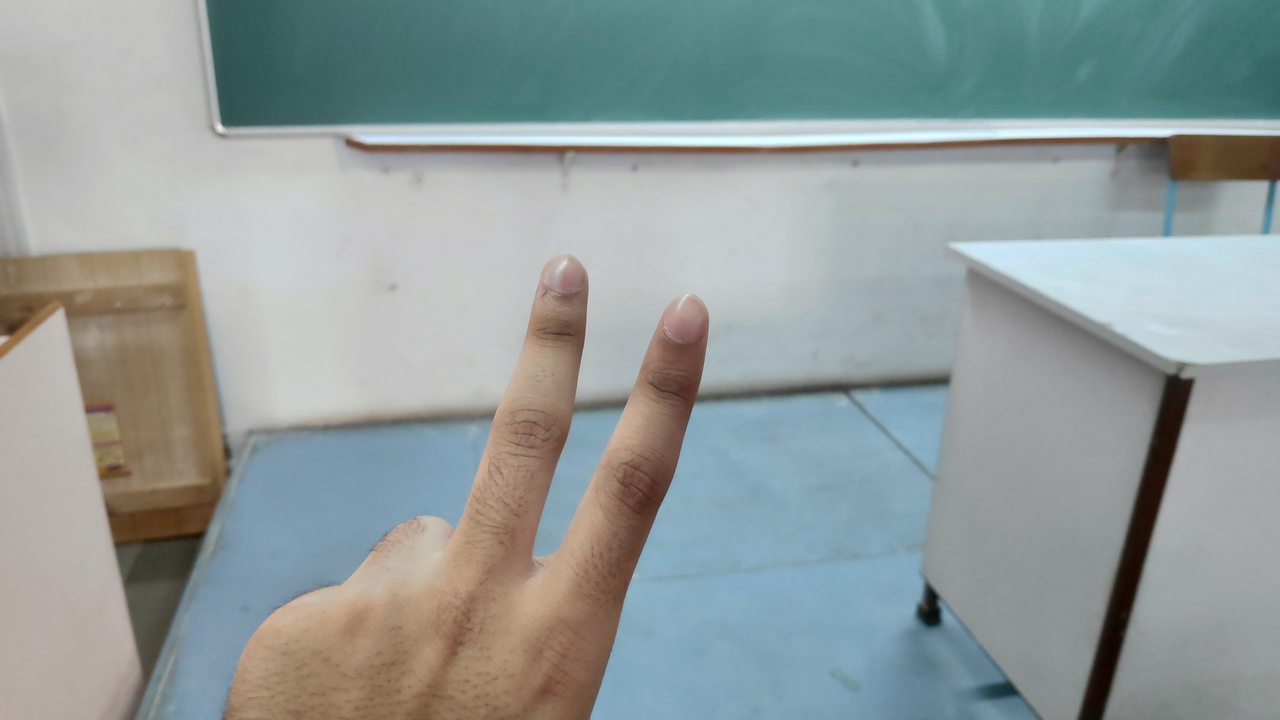fingertip: (650, 288, 716, 350), (528, 248, 594, 310)
